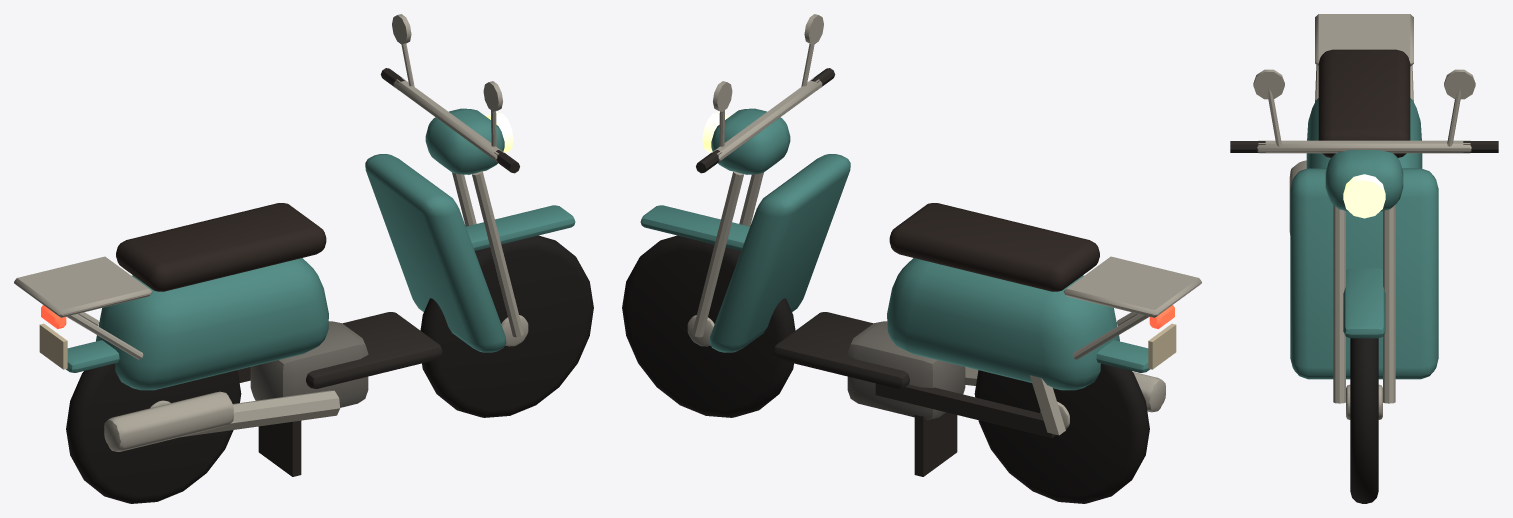
Rendered from motorbike_cub_teal.glb.
3 renders of one model, left to right at view 1: azimuth 30°, elevation 25°; view 2: azimuth 150°, elevation 25°; view 3: azimuth 270°, elevation 25°, orthographic. The views are drawn at different scales.
Visible parts, largest first — view 1: MotoCub_Teal, MotoCub_Teal_Wheel_F, MotoCub_Teal_Wheel_R; view 2: MotoCub_Teal, MotoCub_Teal_Wheel_F, MotoCub_Teal_Wheel_R; view 3: MotoCub_Teal, MotoCub_Teal_Wheel_F.
Boxes of the visible parts, bbox=[...] form: MotoCub_Teal: bbox=[14, 14, 575, 476]; MotoCub_Teal_Wheel_F: bbox=[420, 235, 593, 417]; MotoCub_Teal_Wheel_R: bbox=[66, 363, 241, 503]; MotoCub_Teal: bbox=[640, 14, 1201, 476]; MotoCub_Teal_Wheel_F: bbox=[622, 235, 795, 417]; MotoCub_Teal_Wheel_R: bbox=[974, 363, 1149, 503]; MotoCub_Teal: bbox=[1230, 14, 1498, 403]; MotoCub_Teal_Wheel_F: bbox=[1346, 338, 1382, 503].
Bounding box in the file's own units: 1.89 × 1.23 × 0.76.
